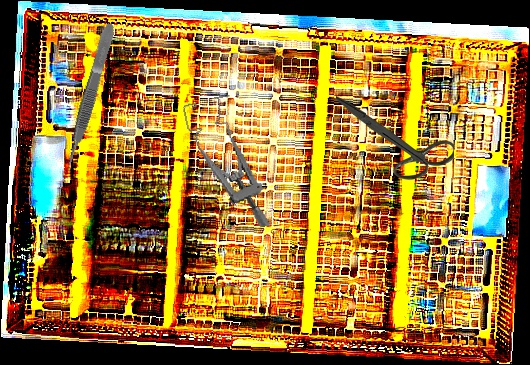Iris Scissors: (334, 94, 455, 182)
Speculum: (181, 91, 272, 239)
Tissue Forceps: (60, 22, 119, 167)
